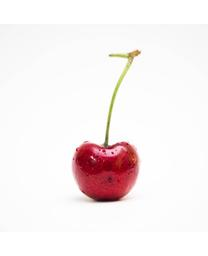cherry: (73, 141, 140, 203)
